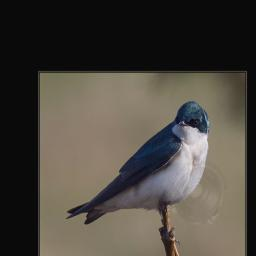Swallow: (65, 100, 211, 225)
